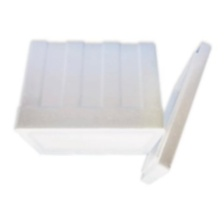foam_box: (9, 33, 215, 191)
